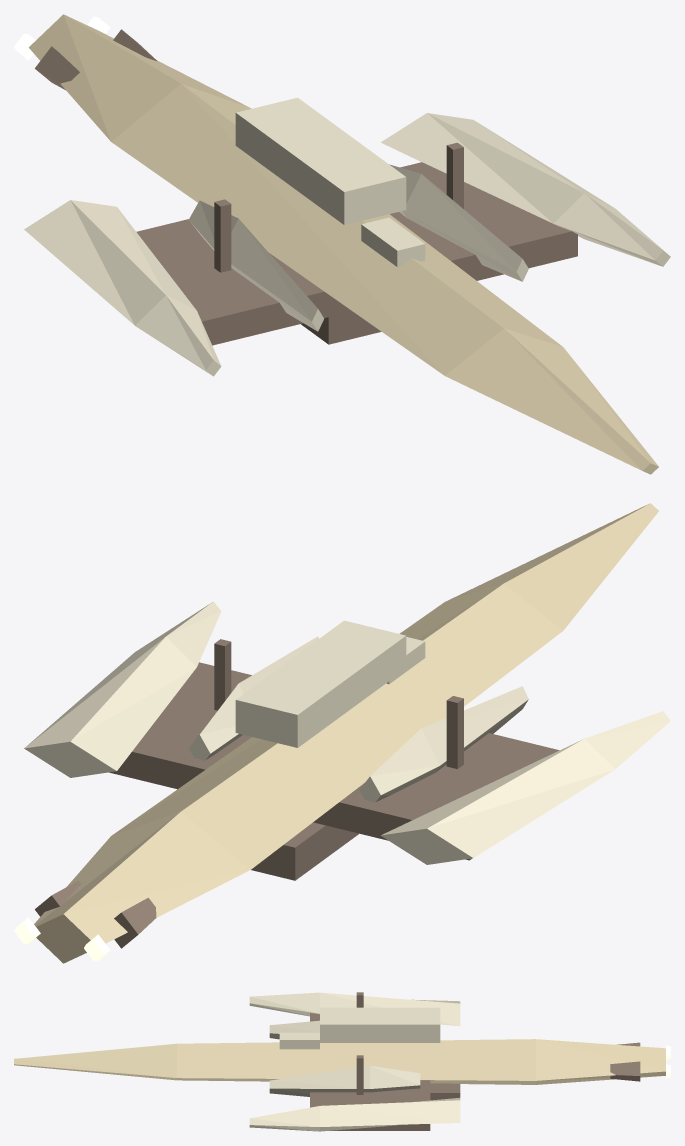
The picture shows the model from 3 angles, top to bottom: view 1: azimuth 30°, elevation 25°; view 2: azimuth 150°, elevation 25°; view 3: azimuth 270°, elevation 25°; orthographic projection. The views are drawn at different scales.
Size of the model in its own units: 6.32 by 1.87 by 13.49.
